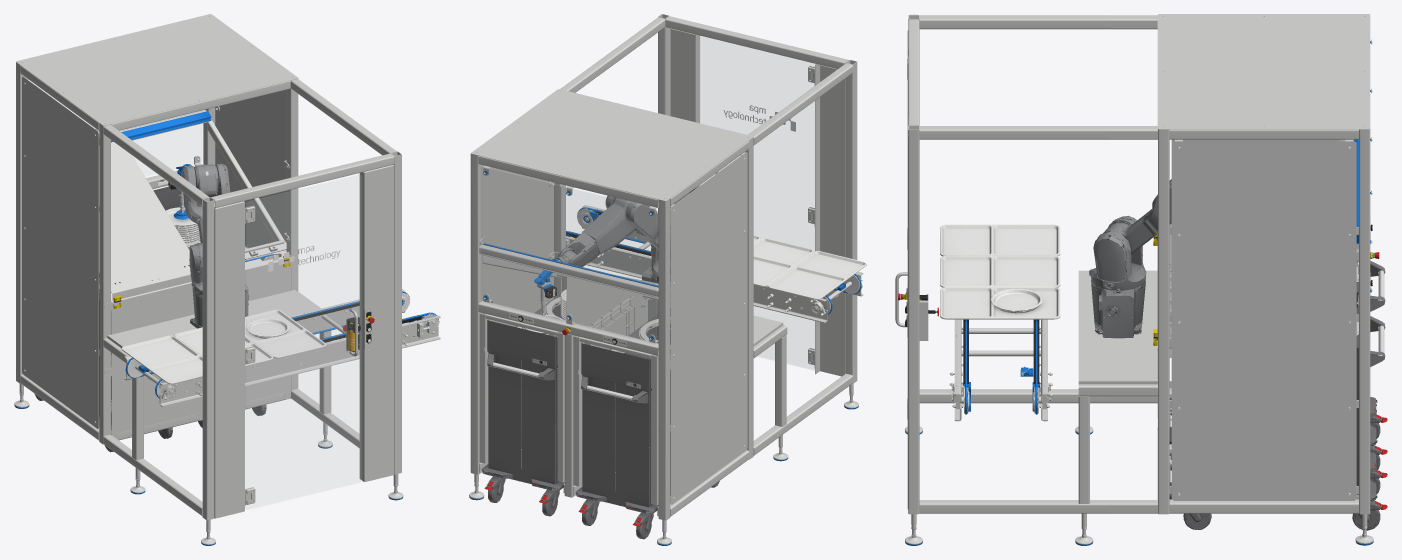
File: Aufleger_Modul_1_prospekt.glb
3 renders of one model, left to right at view 1: azimuth 30°, elevation 25°; view 2: azimuth 150°, elevation 25°; view 3: azimuth 270°, elevation 25°, orthographic. The views are drawn at different scales.
Visible parts, largest first — view 1: Edelstahl, Glas, Weiss, Grau, Blau, Metall_dunkel, Schwarz; view 2: Edelstahl, Glas, Metall_dunkel, Weiss, Grau, Blau; view 3: Edelstahl, Weiss, Grau, Metall_dunkel, Blau, Schwarz.
Part boxes in pixels (x1,y1,x2,y2): Edelstahl: [14, 14, 440, 544]; Glas: [29, 80, 361, 509]; Weiss: [24, 82, 439, 423]; Grau: [114, 163, 351, 353]; Blau: [14, 111, 439, 545]; Metall_dunkel: [34, 186, 359, 452]; Schwarz: [19, 180, 421, 545]; Edelstahl: [469, 14, 863, 544]; Glas: [480, 36, 814, 370]; Metall_dunkel: [481, 189, 719, 539]; Weiss: [481, 105, 866, 499]; Grau: [547, 196, 670, 296]; Blau: [469, 170, 861, 545]; Edelstahl: [895, 14, 1373, 544]; Weiss: [907, 40, 1384, 495]; Grau: [1089, 179, 1171, 338]; Metall_dunkel: [920, 261, 1385, 530]; Blau: [905, 40, 1373, 545]; Schwarz: [905, 224, 1372, 545].
Size of the model in its own units: 1.74 by 2.02 by 2.17.
11 materials, 9 textured.
